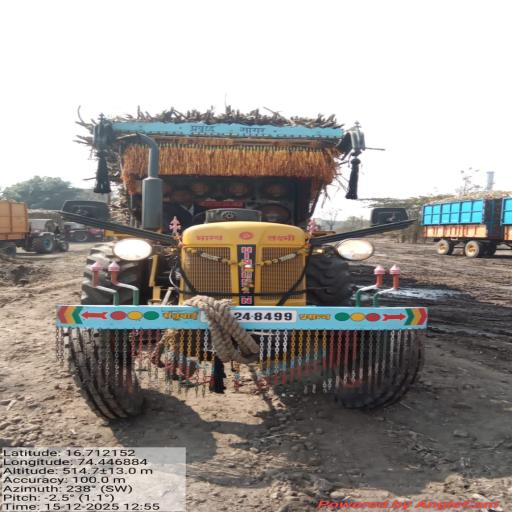number_plate: (231, 308, 297, 323)
